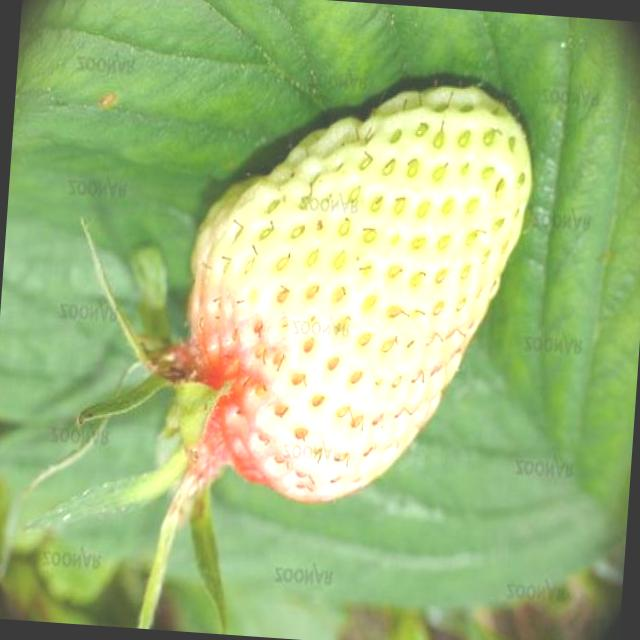Strawberry: (178, 70, 539, 518)
